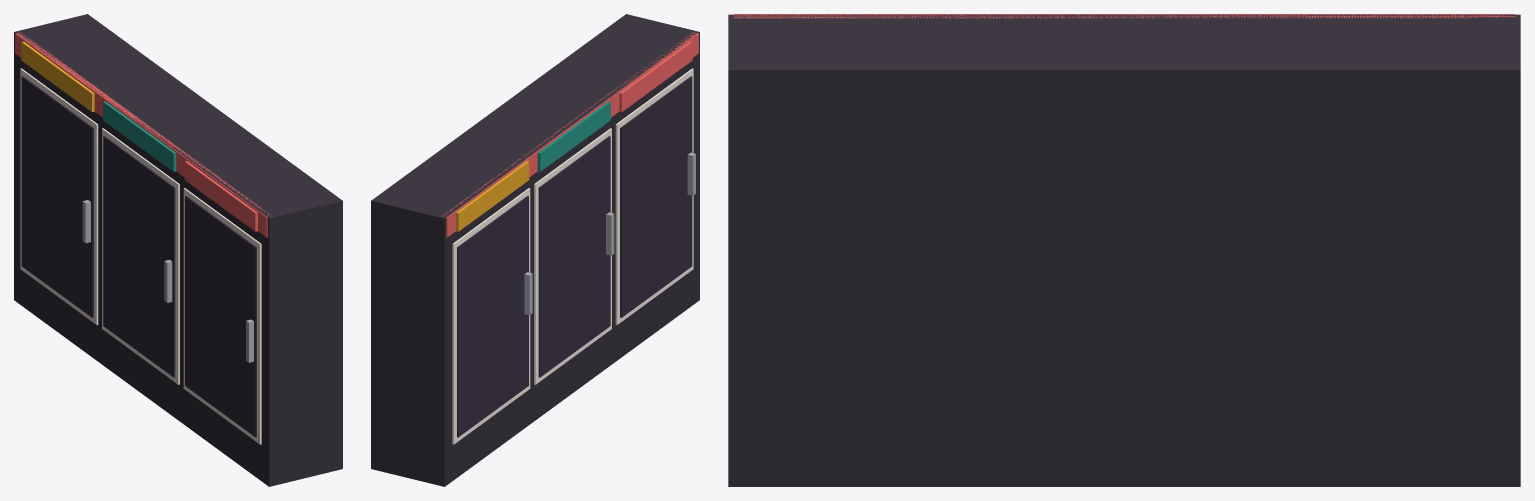
Rendered from drink_cooler.glb.
The picture shows the model from 3 angles, left to right: view 1: azimuth 30°, elevation 25°; view 2: azimuth 150°, elevation 25°; view 3: azimuth 270°, elevation 25°; orthographic projection. The views are drawn at different scales.
Visible parts, largest first — view 1: cooler_body, door_pane_1, door_pane_2, door_pane_0, top_sign, door_frame_2, door_frame_0, door_frame_1, brand_stripe_0, brand_stripe_1, brand_stripe_2, door_handle_2 (+1 smaller); view 2: cooler_body, door_pane_1, door_pane_0, door_pane_2, door_frame_0, door_frame_2, door_frame_1, top_sign, brand_stripe_0, brand_stripe_1, brand_stripe_2, door_handle_0 (+2 smaller); view 3: cooler_body, top_sign.
Part boxes in pixels (box(x1,y1,x2,y2)): cooler_body: box(14, 14, 342, 486); door_pane_1: box(103, 136, 175, 377); door_pane_2: box(21, 76, 93, 317); door_pane_0: box(185, 196, 256, 437); top_sign: box(15, 32, 272, 237); door_frame_2: box(20, 68, 98, 324); door_frame_0: box(183, 188, 261, 444); door_frame_1: box(102, 128, 179, 384); brand_stripe_0: box(184, 161, 257, 231); brand_stripe_1: box(103, 101, 176, 171); brand_stripe_2: box(21, 41, 94, 111); door_handle_2: box(82, 200, 90, 243); cooler_body: box(371, 14, 699, 486); door_pane_1: box(538, 136, 610, 377); door_pane_0: box(620, 76, 692, 317); door_pane_2: box(457, 196, 528, 437); door_frame_0: box(615, 68, 693, 324); door_frame_2: box(452, 188, 530, 444); door_frame_1: box(534, 128, 611, 384); top_sign: box(442, 32, 698, 237); brand_stripe_0: box(619, 41, 692, 111); brand_stripe_1: box(537, 101, 610, 171); brand_stripe_2: box(456, 161, 529, 231); door_handle_0: box(687, 152, 695, 195); cooler_body: box(728, 14, 1520, 486); top_sign: box(733, 14, 1515, 18).
Bounding box in the file's own units: 0.555 × 1.74 × 3.
